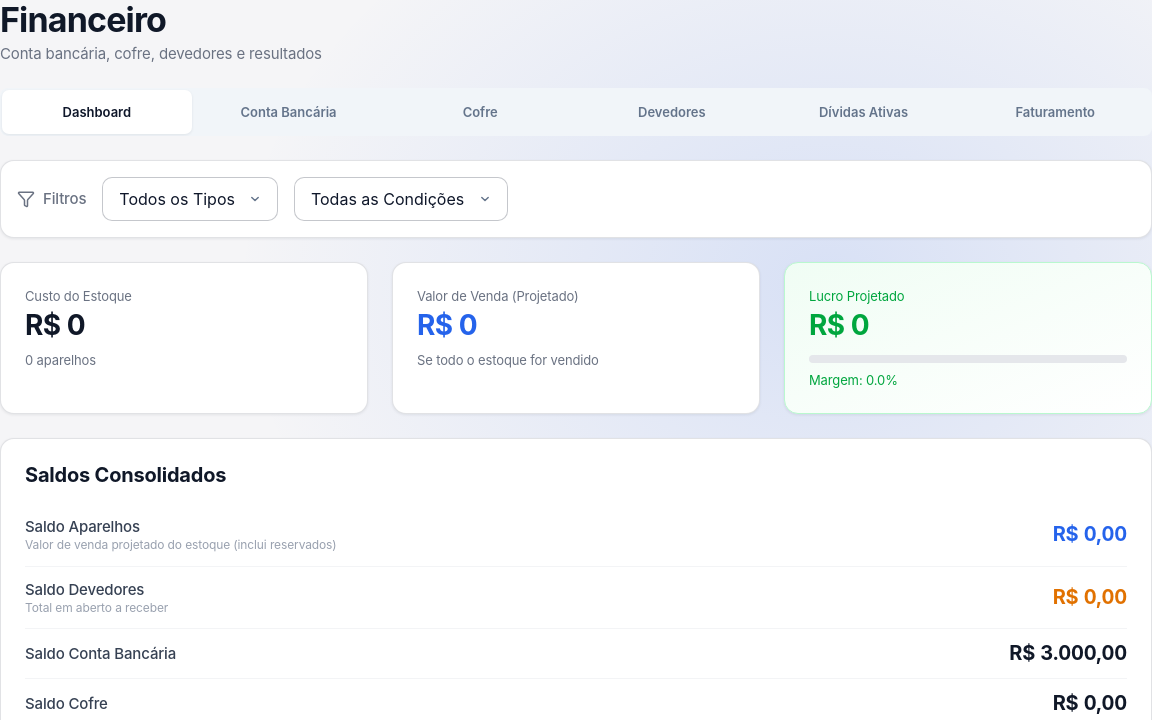
Test: Finance account integrity guards › filters account summary cards when category filter is selected
Click the button with test id "finance-tab-bank". click: (289, 112)
box: [194, 90, 383, 134]
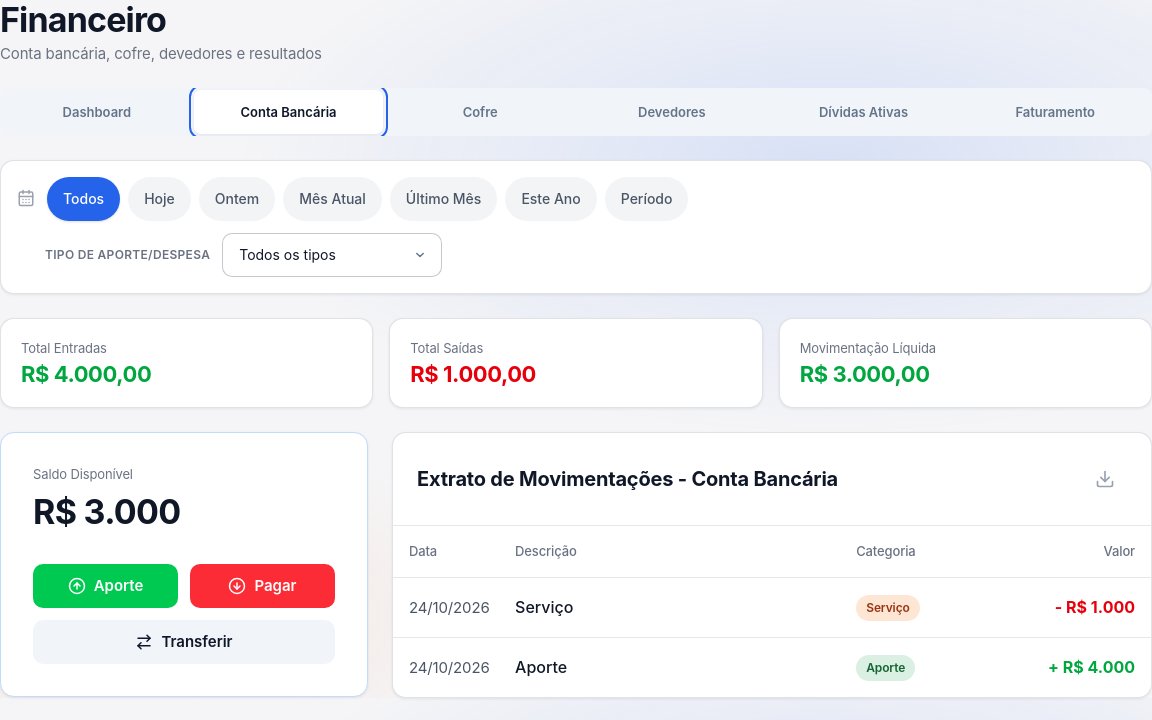
Select "Aporte" in the dropdown labelled "Tipo de aporte/despesa". click: (332, 255)
box: [222, 233, 442, 277]
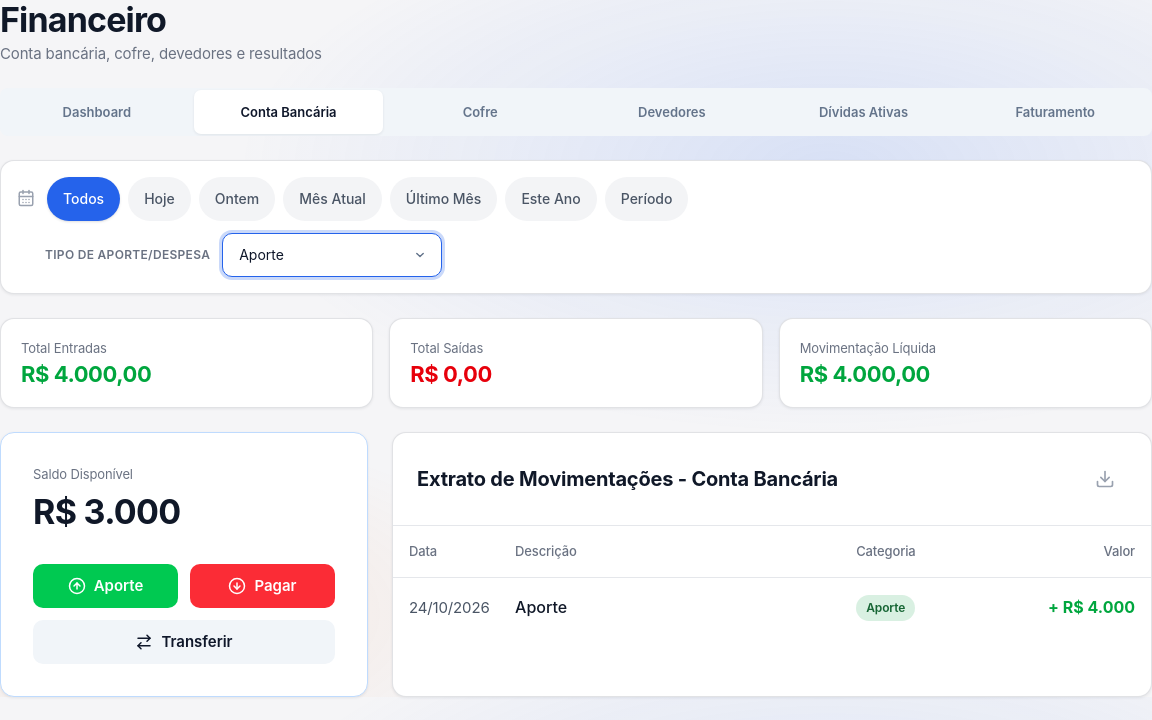
Result: the text "R$ 4.000,00" is shown 2 times at [21, 361, 151, 387]; [800, 361, 930, 387]
Result: the text "R$ 0,00" is shown at [410, 361, 492, 387]
